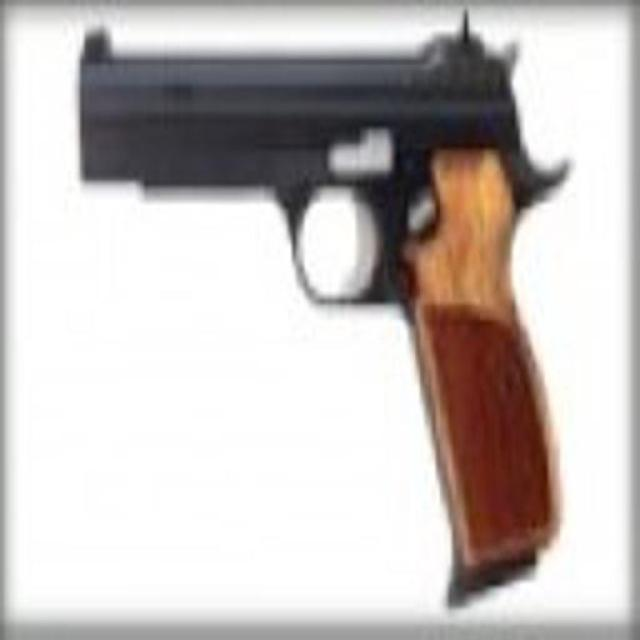pistol: (67, 21, 580, 596)
